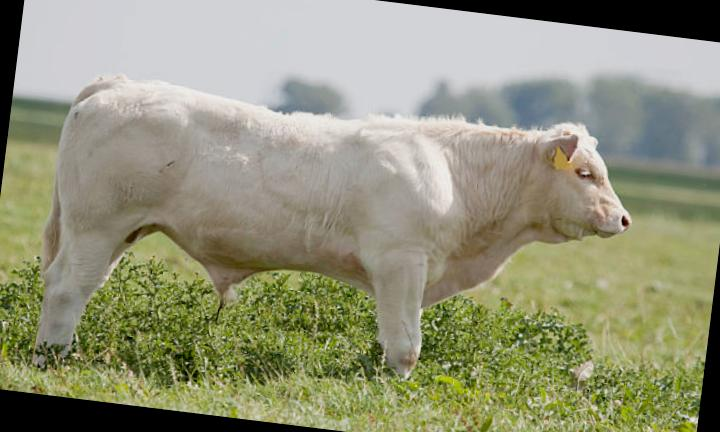Charolais: (35, 76, 629, 374)
